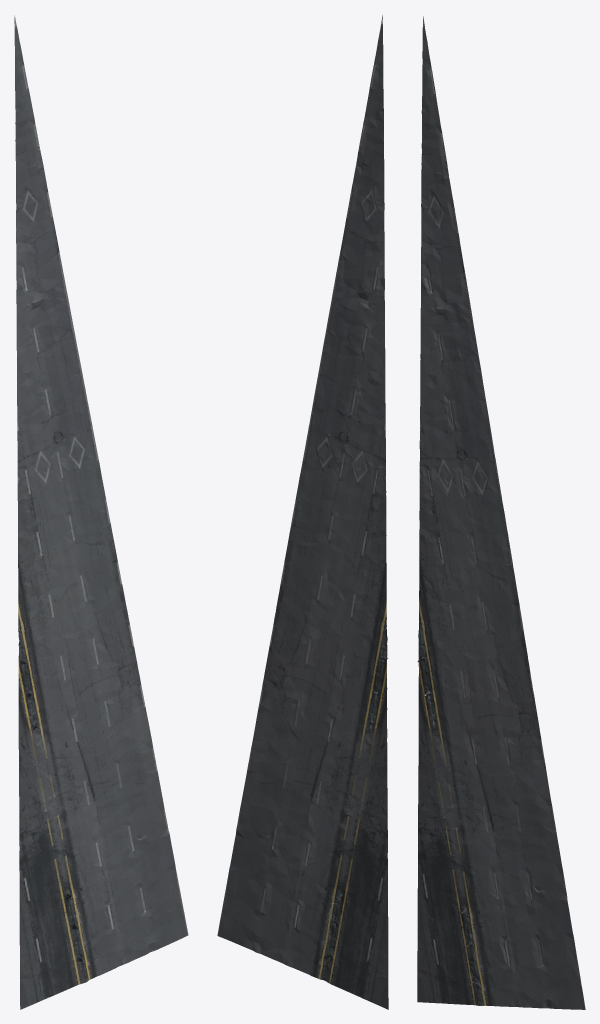
File: piece3.obj
3 views of the same model, side by side, from view 1: azimuth 30°, elevation 25°; view 2: azimuth 150°, elevation 25°; view 3: azimuth 330°, elevation 25° (orthographic).
Bounding box in the file's own units: 16.14 × 90.45 × 1.8.
